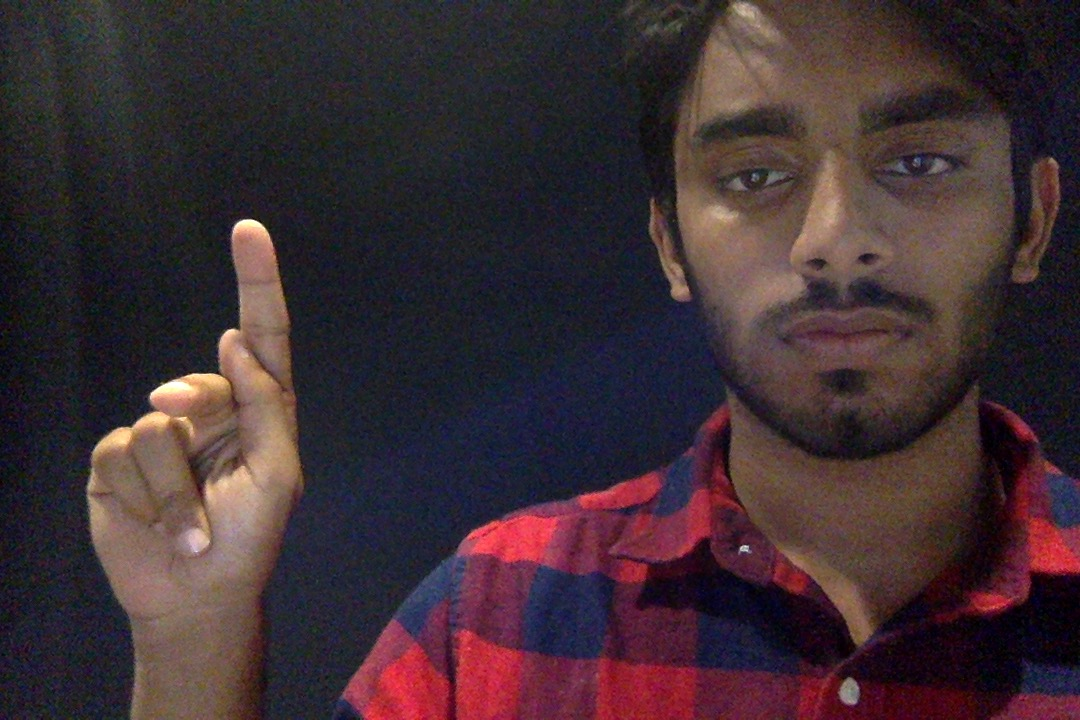k: (61, 195, 359, 671)
